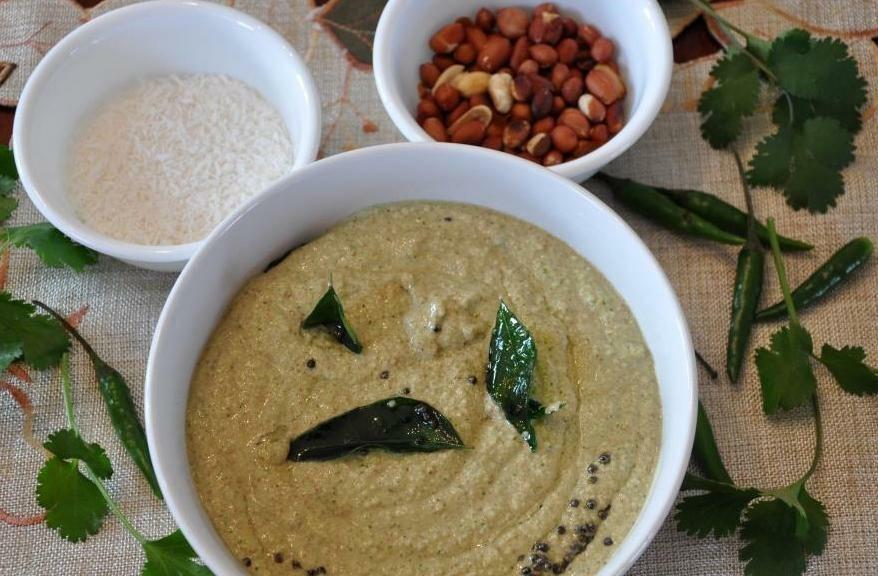CoconutChutney: (188, 206, 660, 576)
